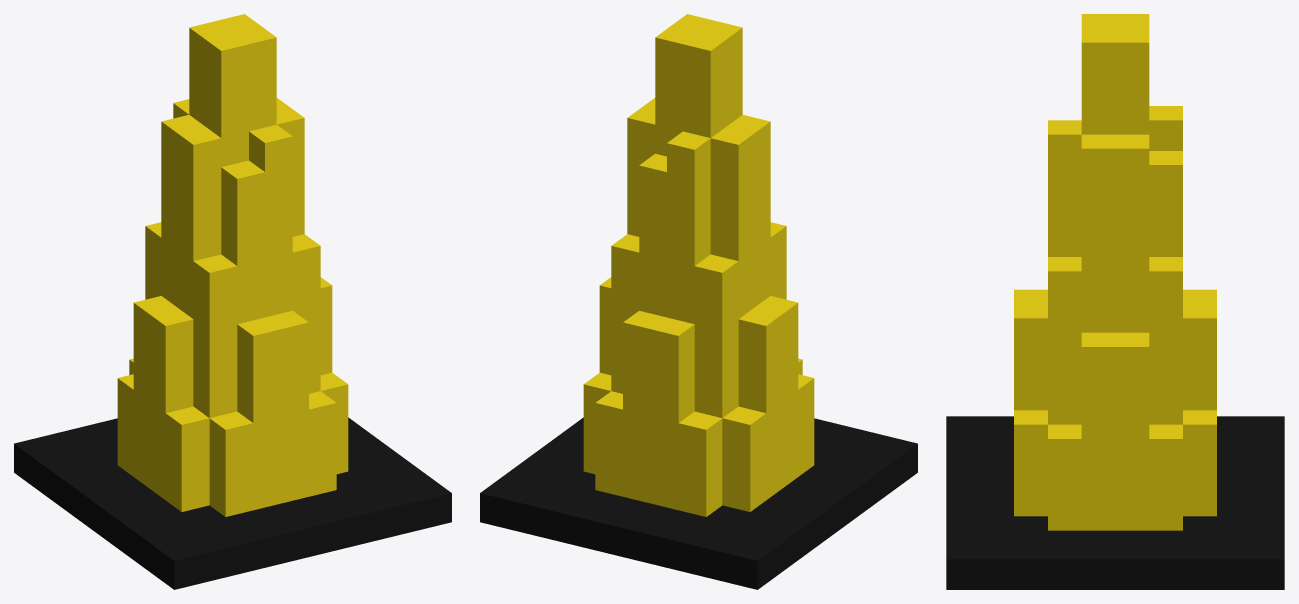
The model's file is bucket_truck_cone.glb.
The picture shows the model from 3 angles, left to right: view 1: azimuth 30°, elevation 25°; view 2: azimuth 150°, elevation 25°; view 3: azimuth 270°, elevation 25°; orthographic projection. The views are drawn at different scales.
Visible parts, largest first — view 1: body:compound; view 2: body:compound; view 3: body:compound.
Boxes of the visible parts, bbox=[...] form: body:compound: bbox=[14, 14, 451, 589]; body:compound: bbox=[480, 14, 917, 589]; body:compound: bbox=[946, 14, 1284, 589].
Size of the model in its own units: 0.3125 by 0.5 by 0.3125.
